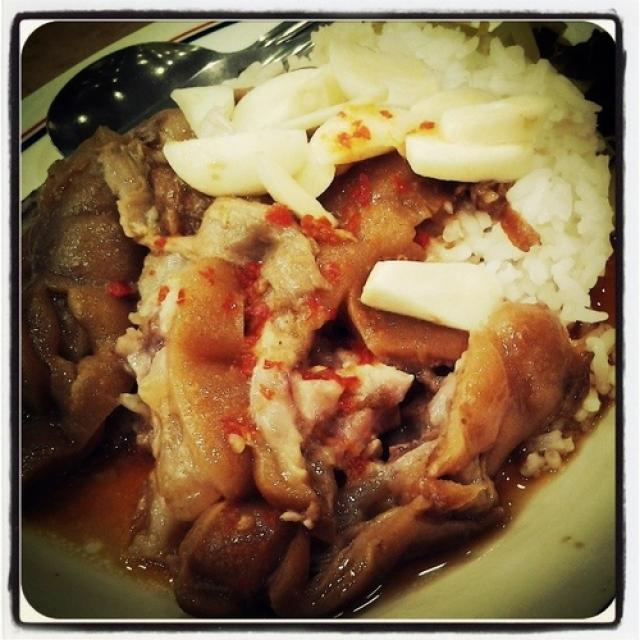猪肉菜式: (32, 34, 602, 610)
